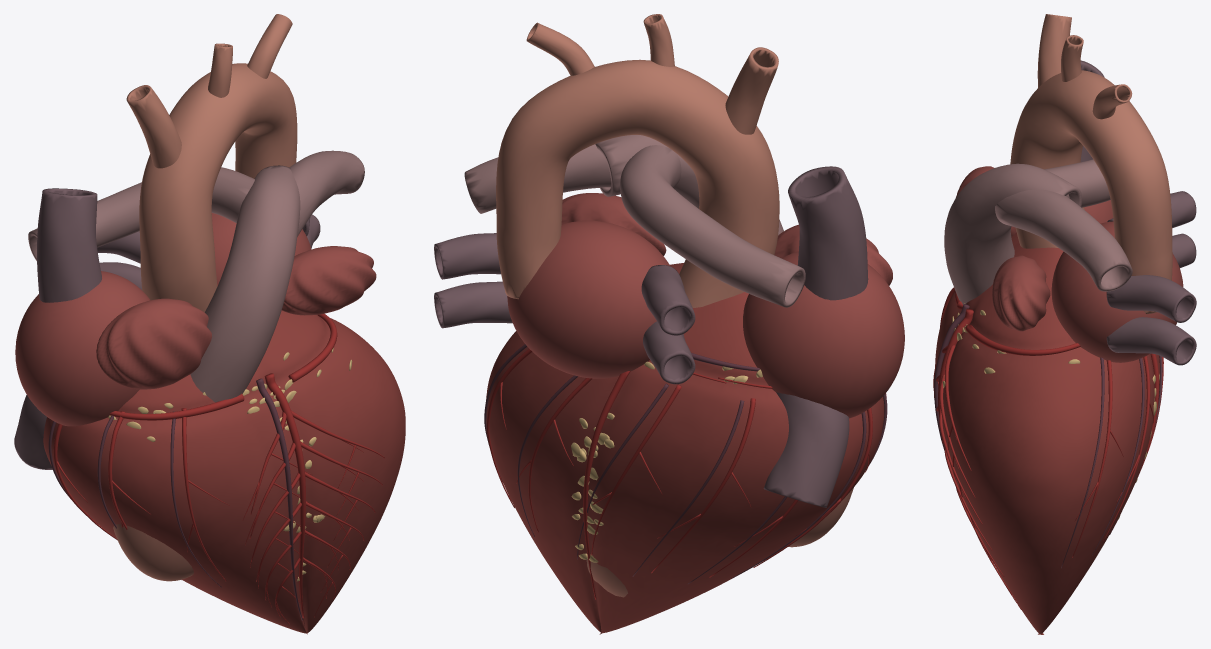
Rendered from heart-detail-mobile.glb.
3 renders of one model, left to right at view 1: azimuth 30°, elevation 25°; view 2: azimuth 150°, elevation 25°; view 3: azimuth 270°, elevation 25°, orthographic. The views are drawn at different scales.
Visible parts, largest first — view 1: Ventricular_epicardium, Right_atrium, aorta, pulmonary_trunk, superior_vena_cava, LAD, Endocardium_right_atrium, Great_cardiac_vein, Epicardial_fat_0; view 2: Ventricular_epicardium, aorta, Right_atrium, superior_vena_cava, pulmonary_trunk, LAD, Great_cardiac_vein, Epicardial_fat_0, Endocardium_right_atrium; view 3: Ventricular_epicardium, aorta, pulmonary_trunk, Right_atrium, superior_vena_cava, LAD, Great_cardiac_vein, Epicardial_fat_0.
Boxes of the visible parts, x1,y1,x2,y2 form: Ventricular_epicardium: (43, 283, 405, 634); Right_atrium: (15, 213, 376, 426); aorta: (126, 14, 297, 312); pulmonary_trunk: (28, 150, 364, 402); superior_vena_cava: (14, 188, 320, 469); LAD: (53, 313, 384, 623); Endocardium_right_atrium: (113, 524, 193, 581); Great_cardiac_vein: (48, 378, 302, 620); Epicardial_fat_0: (108, 348, 352, 581); Ventricular_epicardium: (486, 263, 884, 634); aorta: (496, 14, 779, 307); Right_atrium: (507, 193, 904, 418); superior_vena_cava: (434, 166, 868, 507); pulmonary_trunk: (464, 135, 805, 307); LAD: (486, 348, 886, 599); Great_cardiac_vein: (484, 344, 887, 583); Epicardial_fat_0: (571, 361, 762, 562); Endocardium_right_atrium: (586, 487, 853, 597); Ventricular_epicardium: (935, 232, 1159, 634); aorta: (1010, 14, 1172, 314); pulmonary_trunk: (944, 159, 1132, 304); Right_atrium: (956, 166, 1183, 362); superior_vena_cava: (1080, 60, 1196, 365); LAD: (933, 287, 1163, 609); Great_cardiac_vein: (934, 303, 1162, 568); Epicardial_fat_0: (942, 303, 1159, 519).
Size of the model in its own units: 1.39 by 2.13 by 0.8972.
